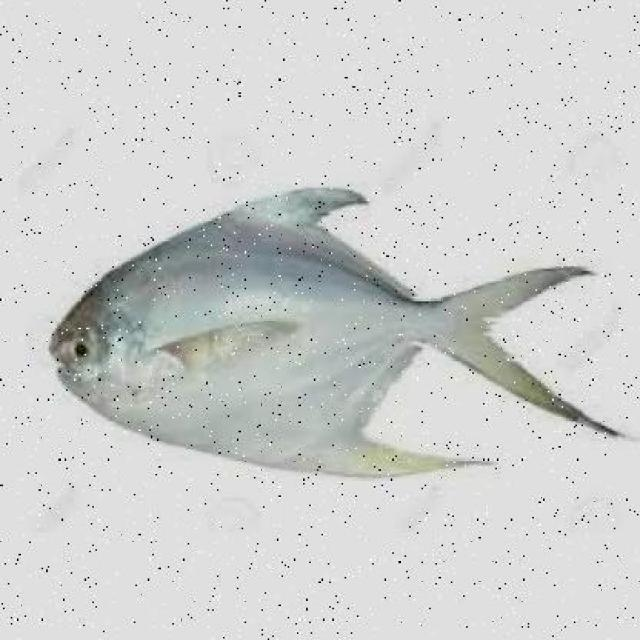ikan-pacu: (48, 181, 586, 477)
